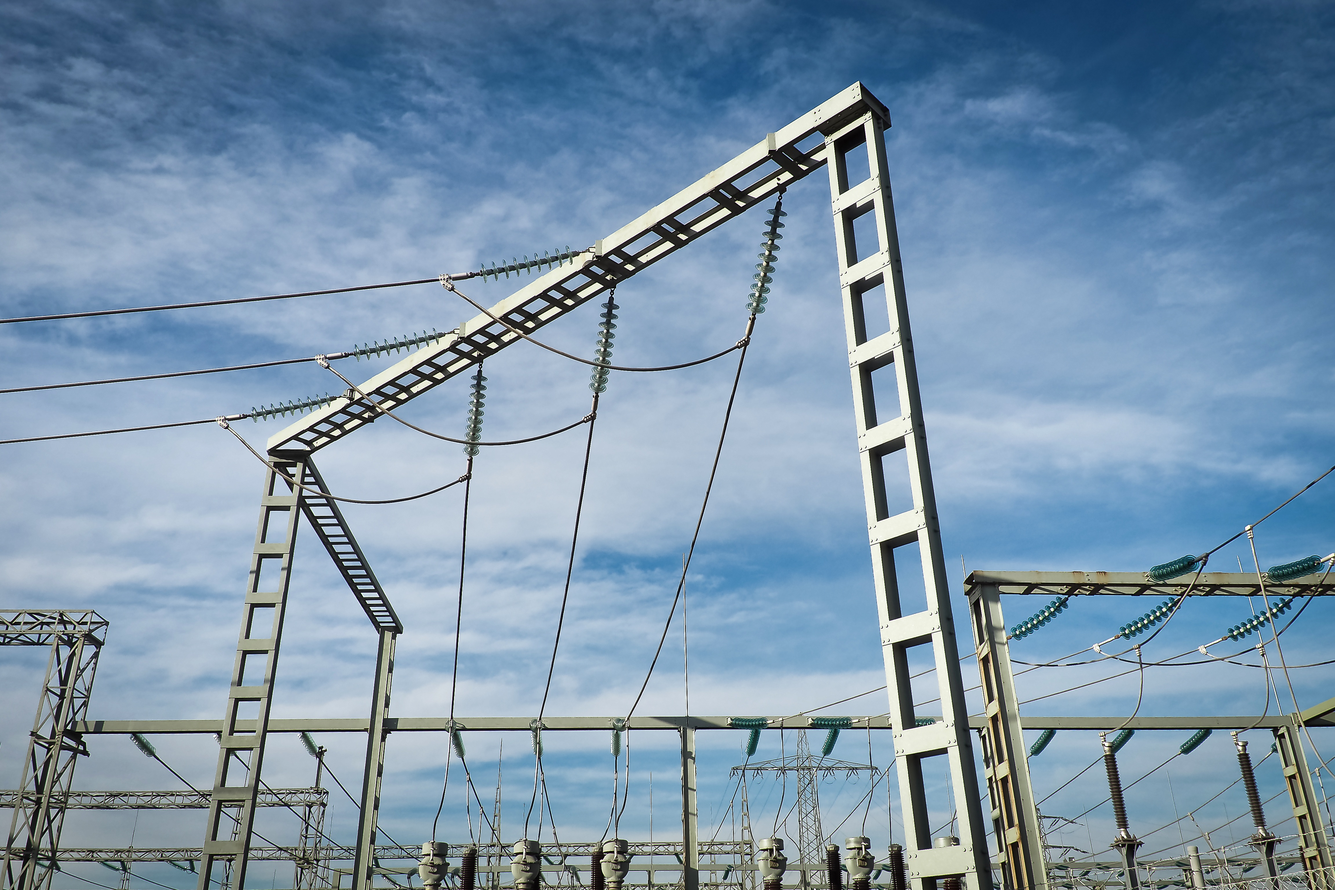insulator: (740, 209, 794, 315), (479, 242, 586, 285), (233, 389, 350, 424), (351, 323, 444, 363), (584, 303, 622, 395), (460, 373, 495, 456)
